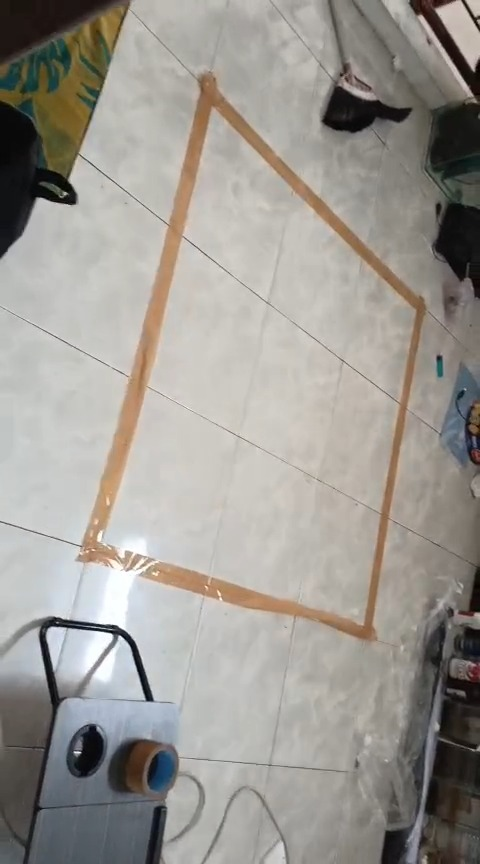floor marking: (78, 73, 425, 639)
